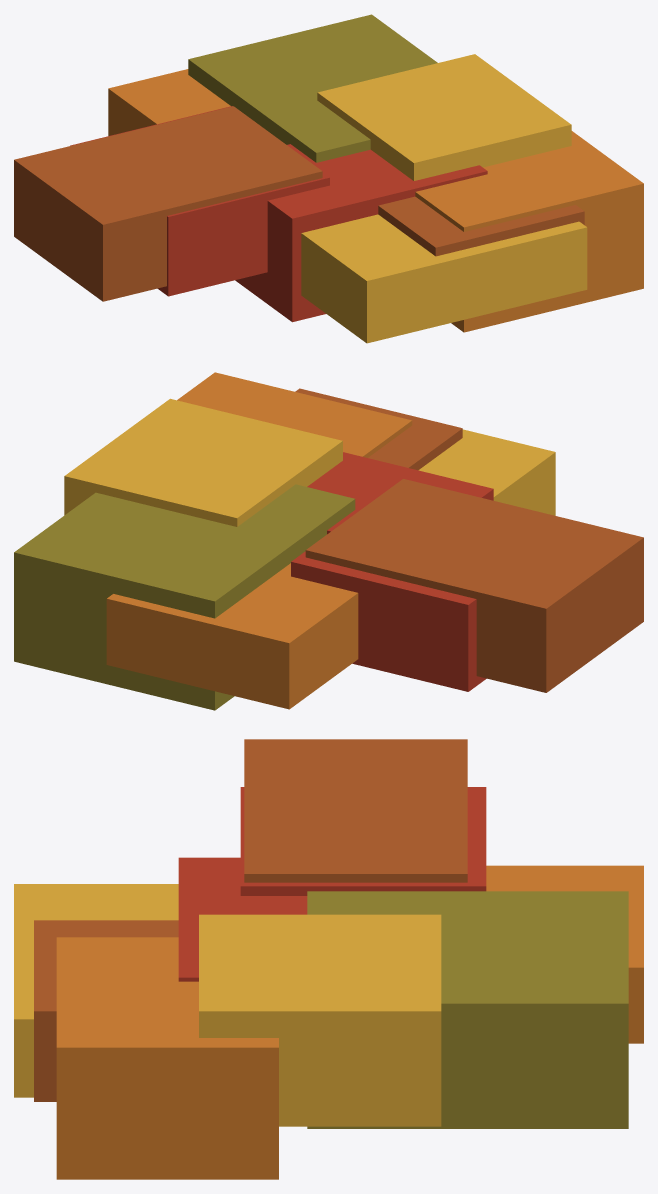
Rendered from leaf_pile.glb.
The picture shows the model from 3 angles, top to bottom: view 1: azimuth 30°, elevation 25°; view 2: azimuth 150°, elevation 25°; view 3: azimuth 270°, elevation 25°; orthographic projection. The views are drawn at different scales.
Visible parts, largest first — view 1: Box9, Box3, Box8, Box1, Box5, Box2, Box7, Box4, Box6; view 2: Box9, Box5, Box6, Box8, Box7, Box1, Box3, Box2, Box4; view 3: Box5, Box1, Box8, Box9, Box3, Box6, Box4, Box2, Box7.
Part boxes in pixels (x1,y1,x2,y2): Box9: [14, 106, 322, 301]; Box3: [301, 214, 587, 343]; Box8: [317, 54, 571, 180]; Box1: [415, 131, 643, 332]; Box5: [188, 14, 437, 162]; Box2: [235, 144, 487, 322]; Box7: [70, 106, 329, 296]; Box4: [378, 196, 584, 256]; Box6: [108, 69, 230, 135]; Box9: [305, 479, 643, 692]; Box5: [14, 484, 355, 710]; Box6: [106, 563, 358, 709]; Box8: [64, 398, 342, 526]; Box7: [291, 551, 486, 691]; Box1: [177, 372, 412, 457]; Box3: [418, 429, 555, 515]; Box2: [307, 452, 493, 534]; Box4: [295, 388, 462, 470]; Box5: [307, 891, 628, 1128]; Box1: [56, 937, 278, 1179]; Box8: [199, 914, 441, 1126]; Box9: [244, 739, 467, 882]; Box3: [14, 884, 178, 1097]; Box6: [486, 865, 643, 1043]; Box4: [34, 920, 178, 1101]; Box2: [178, 857, 307, 981]; Box7: [240, 787, 486, 895].
Size of the model in its own units: 1.47 by 0.3811 by 1.37.
